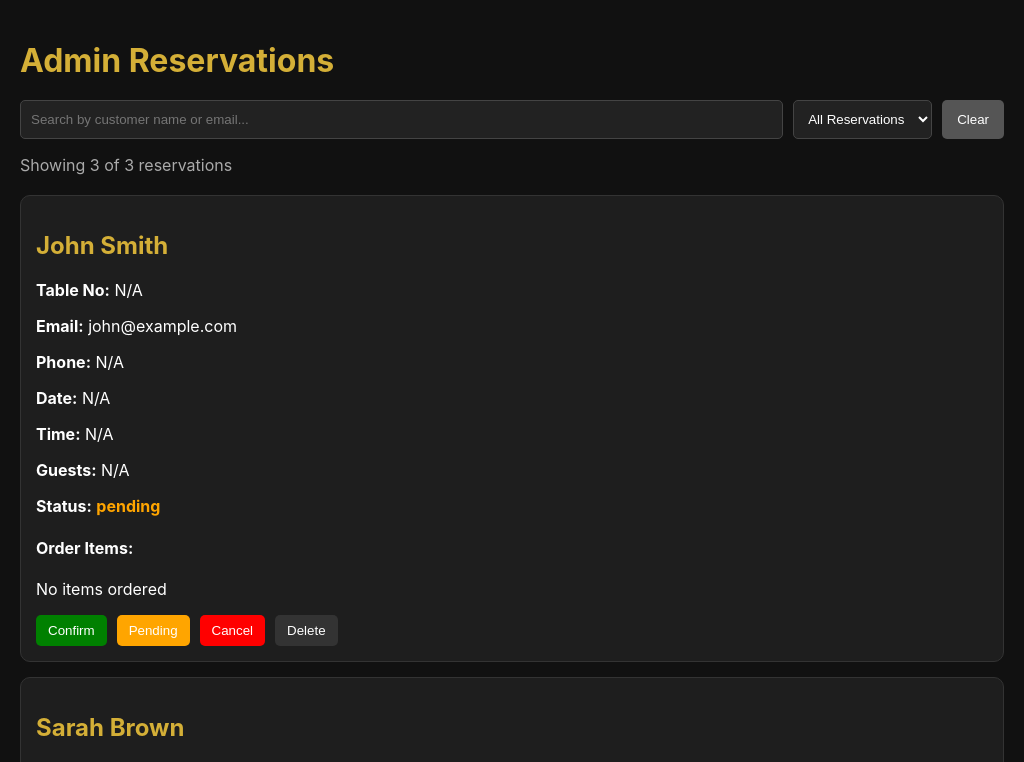
Test: searches reservations by customer name
Expected: the heading "John Smith" is shown, [36,231,168,260]
In the field with placeholder "Search by customer name or email...": (402, 120) [20,100,783,139], type "Sarah"
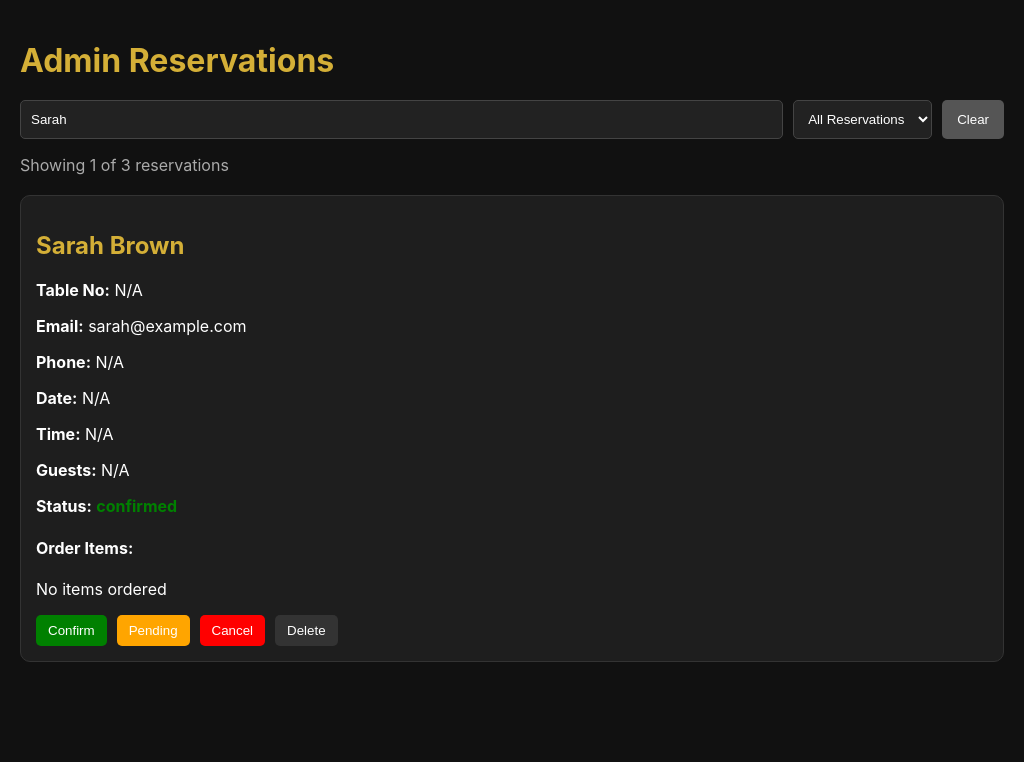
Expected: the heading "Sarah Brown" is shown, [36,231,184,260]
Expected: the heading "John Smith" is gone
